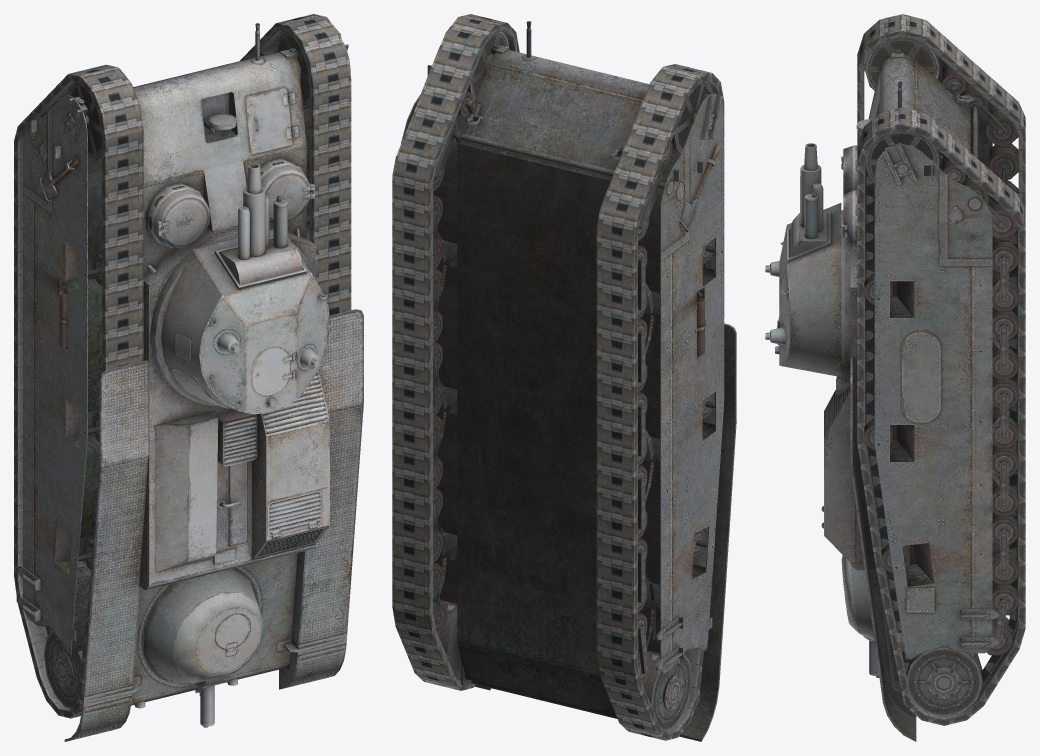
The picture shows the model from 3 angles, left to right: view 1: azimuth 30°, elevation 25°; view 2: azimuth 150°, elevation 25°; view 3: azimuth 270°, elevation 25°; orthographic projection. The views are drawn at different scales.
Parts seen in each view (by area): view 1: hull, turret_01, chassis_track_L, chassis_track_R, gun_01, chassis_wheel_L_20, chassis_wheel_L_01, chassis_wheel_R_01; view 2: hull, chassis_track_L, chassis_track_R, chassis_wheel_L_20, chassis_wheel_L_01, chassis_wheel_R_20, chassis_wheel_R_01; view 3: hull, chassis_track_R, turret_01, chassis_track_L, chassis_wheel_R_20, gun_01, chassis_wheel_L_01, chassis_wheel_R_01, chassis_wheel_L_05, chassis_wheel_R_05, chassis_wheel_L_04, chassis_wheel_R_10 (+11 smaller).
Boxes of the visible parts, bbox=[...] form: hull: bbox=[16, 23, 363, 741]; turret_01: bbox=[161, 229, 330, 414]; chassis_track_L: bbox=[14, 64, 143, 718]; chassis_track_R: bbox=[240, 14, 351, 315]; gun_01: bbox=[219, 163, 302, 285]; chassis_wheel_L_20: bbox=[44, 631, 82, 708]; chassis_wheel_L_01: bbox=[68, 82, 101, 159]; chassis_wheel_R_01: bbox=[274, 31, 309, 109]; hull: bbox=[401, 21, 736, 741]; chassis_track_L: bbox=[596, 64, 724, 740]; chassis_track_R: bbox=[392, 14, 519, 690]; chassis_wheel_L_20: bbox=[643, 651, 691, 730]; chassis_wheel_L_01: bbox=[671, 81, 712, 156]; chassis_wheel_R_20: bbox=[438, 601, 462, 680]; chassis_wheel_R_01: bbox=[467, 31, 509, 101]; hull: bbox=[821, 49, 1008, 741]; chassis_track_R: bbox=[857, 107, 1025, 725]; turret_01: bbox=[765, 203, 841, 376]; chassis_track_L: bbox=[857, 14, 1025, 581]; chassis_wheel_R_20: bbox=[906, 647, 982, 716]; gun_01: bbox=[790, 143, 828, 257]; chassis_wheel_L_01: bbox=[865, 37, 940, 90]; chassis_wheel_R_01: bbox=[865, 130, 940, 183]; chassis_wheel_L_05: bbox=[989, 143, 1018, 179]; chassis_wheel_R_05: bbox=[992, 238, 1018, 272]; chassis_wheel_L_04: bbox=[986, 106, 1018, 145]; chassis_wheel_R_10: bbox=[992, 376, 1018, 409].
Size of the model in its own units: 2.76 by 6.52 by 2.47.
2 materials, 2 textured.
